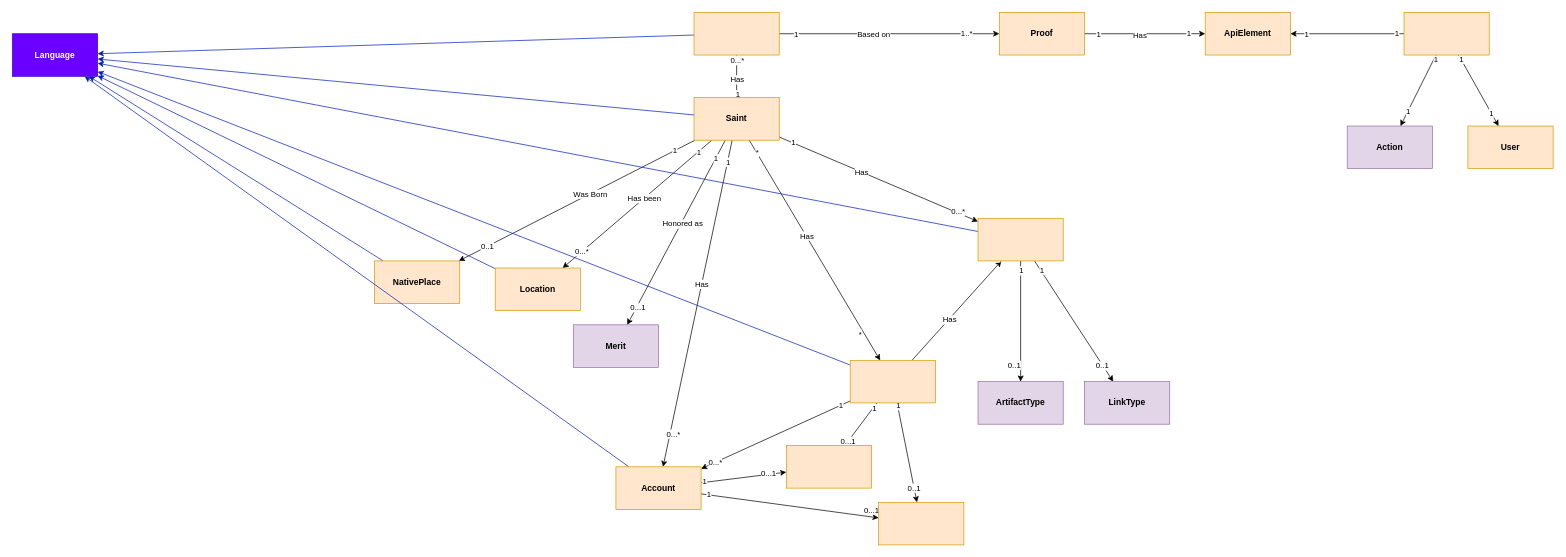
The diagram is 1566 pixels wide and 557 high, and some of its shapes have lost their labels. Each missing label, with the centre of its shape:
Artifact: the point at 1020,239
HistoricDate: the point at 921,523
HistoricTime: the point at 829,466
Quote: the point at 736,33
UserActionHistory: the point at 1446,33
Work: the point at 892,381
